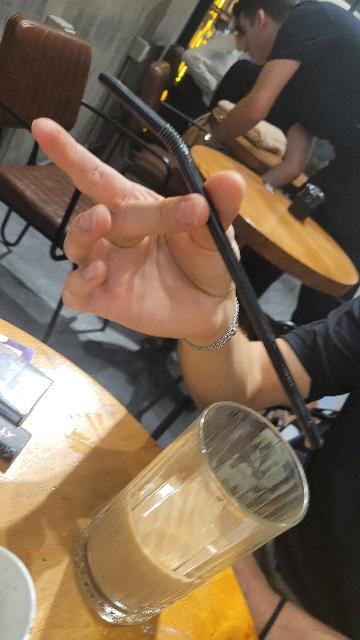Cam: (68, 397, 310, 633)
Plastik: (215, 221, 304, 403), (93, 60, 202, 189)
